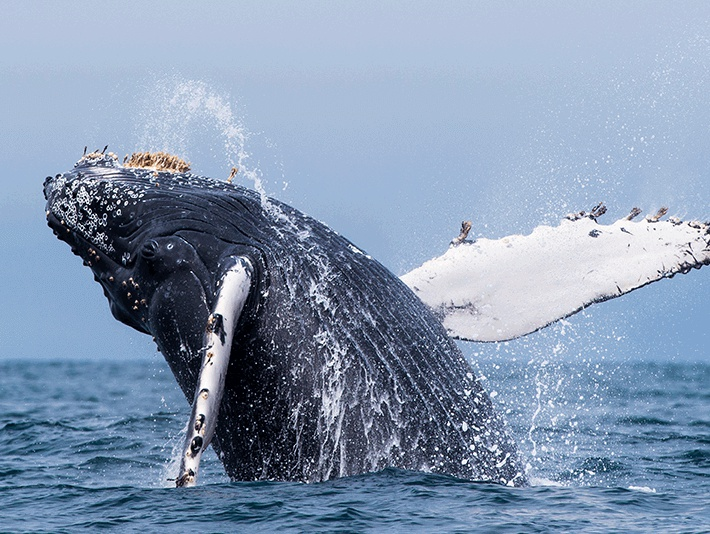humpback: (41, 148, 532, 488)
